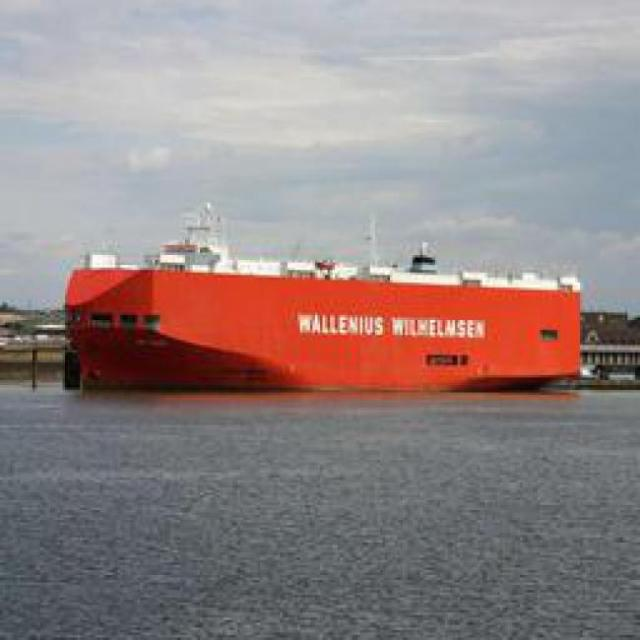boat: (50, 247, 593, 401)
